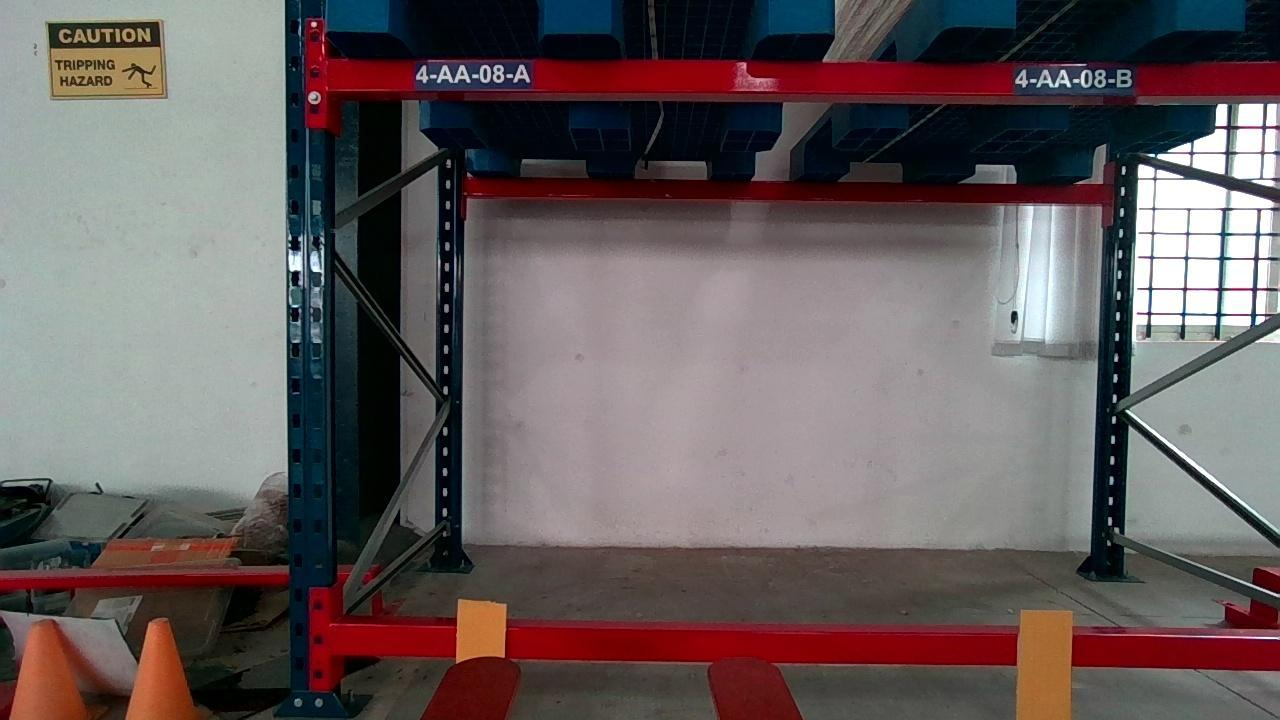h_rack: (325, 626, 1280, 669), (324, 60, 1280, 97)
orange_strip: (1020, 610, 1075, 716), (457, 598, 507, 657)
small_pallet: (325, 0, 837, 34), (945, 0, 1280, 30)
